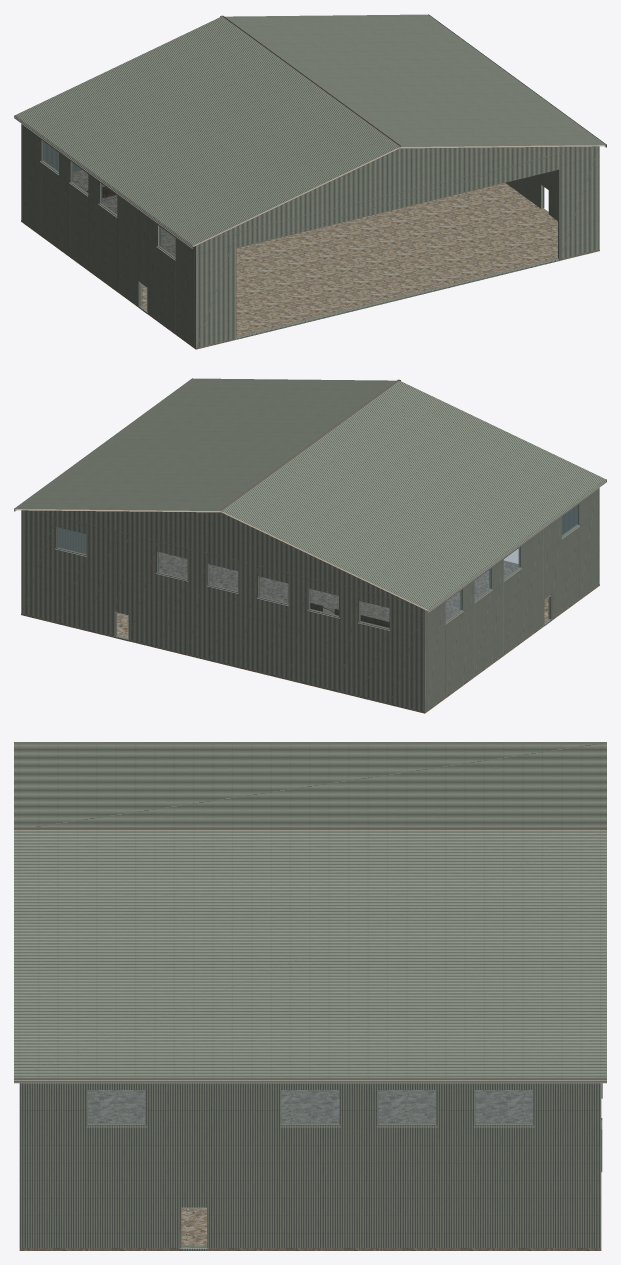
Rendered from mil-hangar.zfix-v14.lod0.glb.
The picture shows the model from 3 angles, top to bottom: view 1: azimuth 30°, elevation 25°; view 2: azimuth 150°, elevation 25°; view 3: azimuth 270°, elevation 25°; orthographic projection. The views are drawn at different scales.
Visible parts, largest first — view 1: mil-hangar; view 2: mil-hangar; view 3: mil-hangar.
Part boxes in pixels (bbox=[...]): mil-hangar: bbox=[14, 14, 606, 349]; mil-hangar: bbox=[14, 378, 606, 713]; mil-hangar: bbox=[14, 742, 606, 1250].
Bounding box in the file's own units: 41.08 × 14.71 × 30.6.
Materials: 5 (3 with a texture image).
